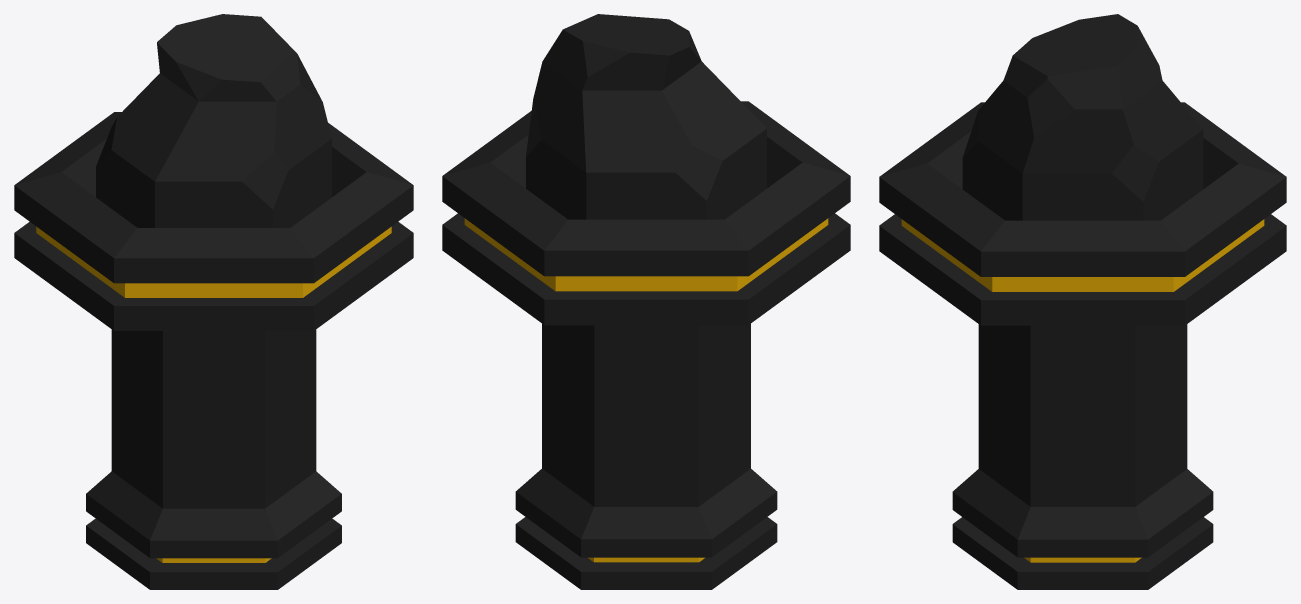
Rendered from Statue_var1.obj.
The picture shows the model from 3 angles, left to right: view 1: azimuth 30°, elevation 25°; view 2: azimuth 150°, elevation 25°; view 3: azimuth 270°, elevation 25°; orthographic projection. The views are drawn at different scales.
Parts seen in each view (by area): view 1: Statue_var2; view 2: Statue_var2; view 3: Statue_var2.
Boxes of the visible parts, box(x1,y1,x2,y2) form: Statue_var2: box(14, 14, 413, 589); Statue_var2: box(442, 14, 850, 589); Statue_var2: box(879, 14, 1286, 589).
Size of the model in its own units: 0.8754 by 1.4 by 1.01.
